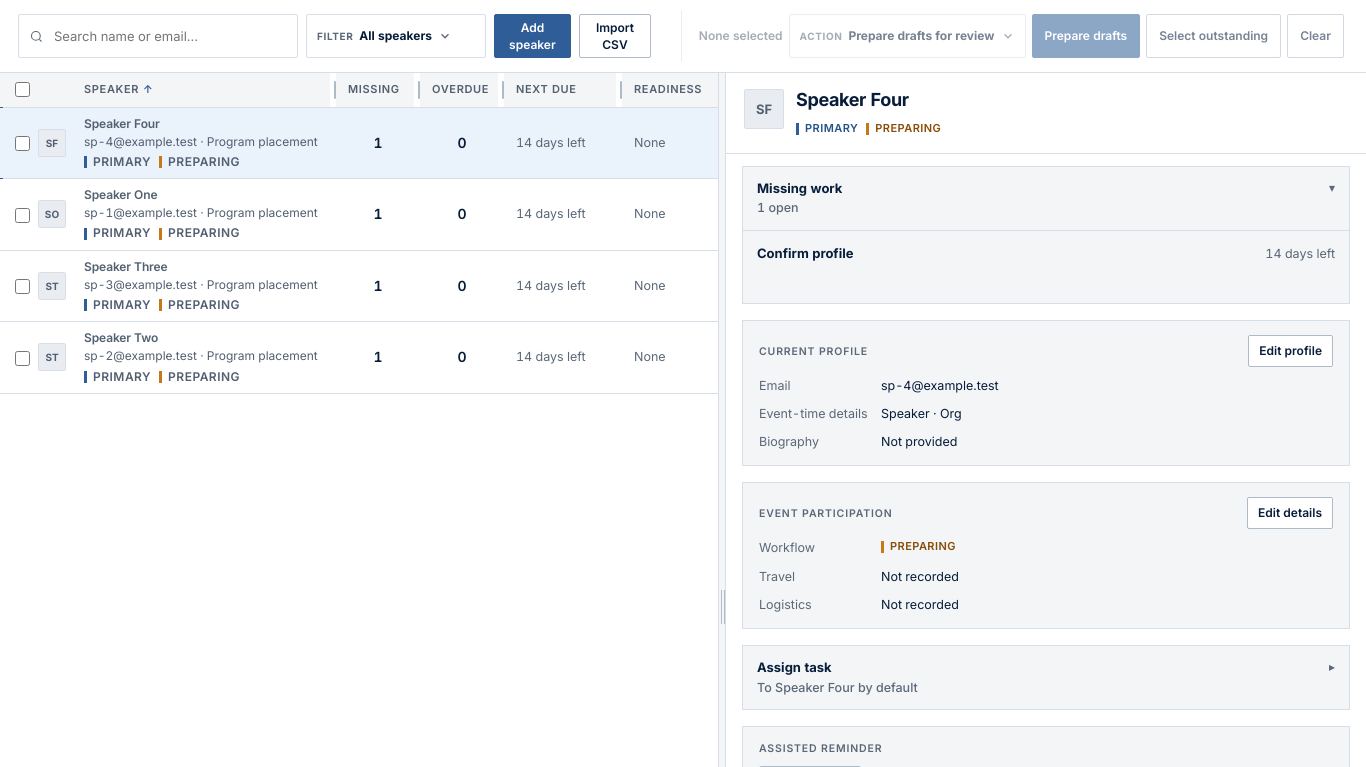
Speakers bulk task reminders › prepares drafts for a few selected speakers when crypto.randomUUID is missing
Click the checkbox named "Select Speaker Four for bulk reminder" at (22, 144), box [14,136,30,151]
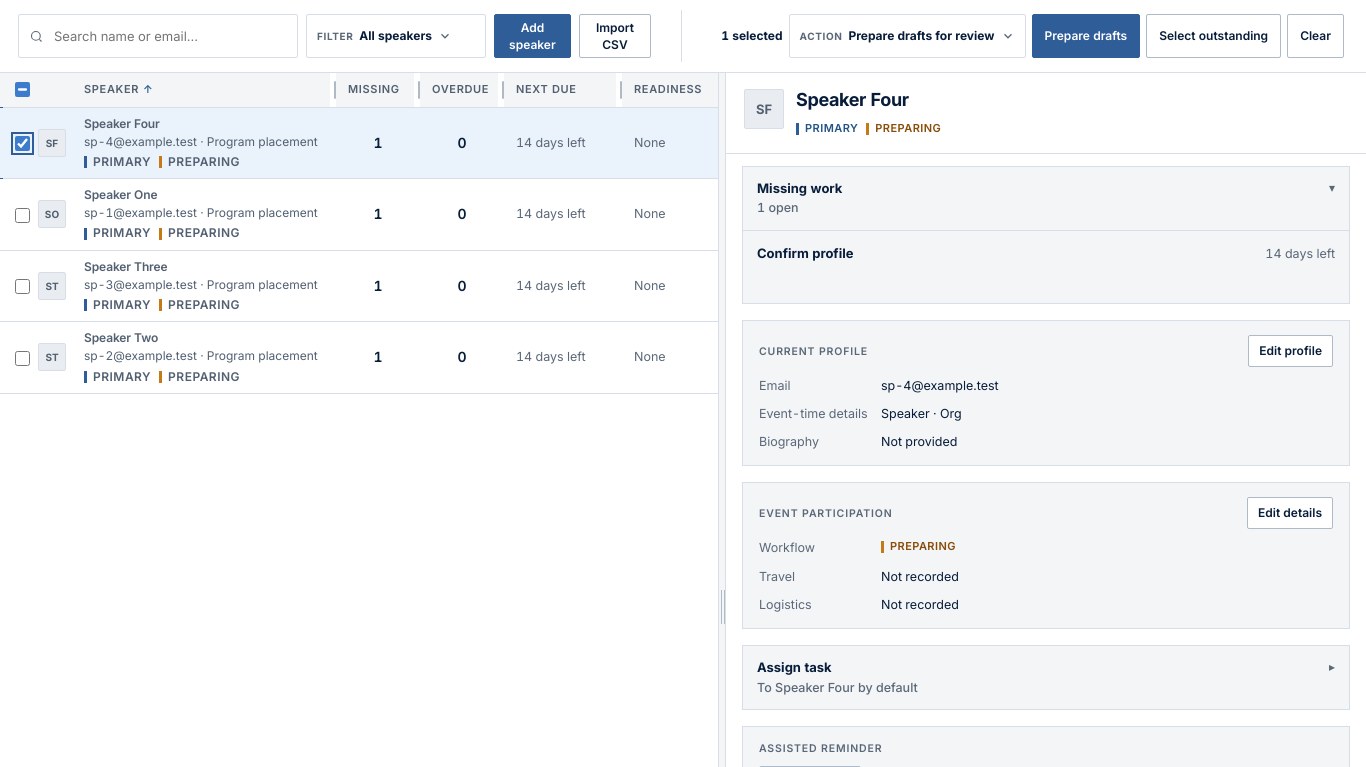
Click the checkbox named "Select Speaker One for bulk reminder" at (22, 215), box [14,208,30,223]
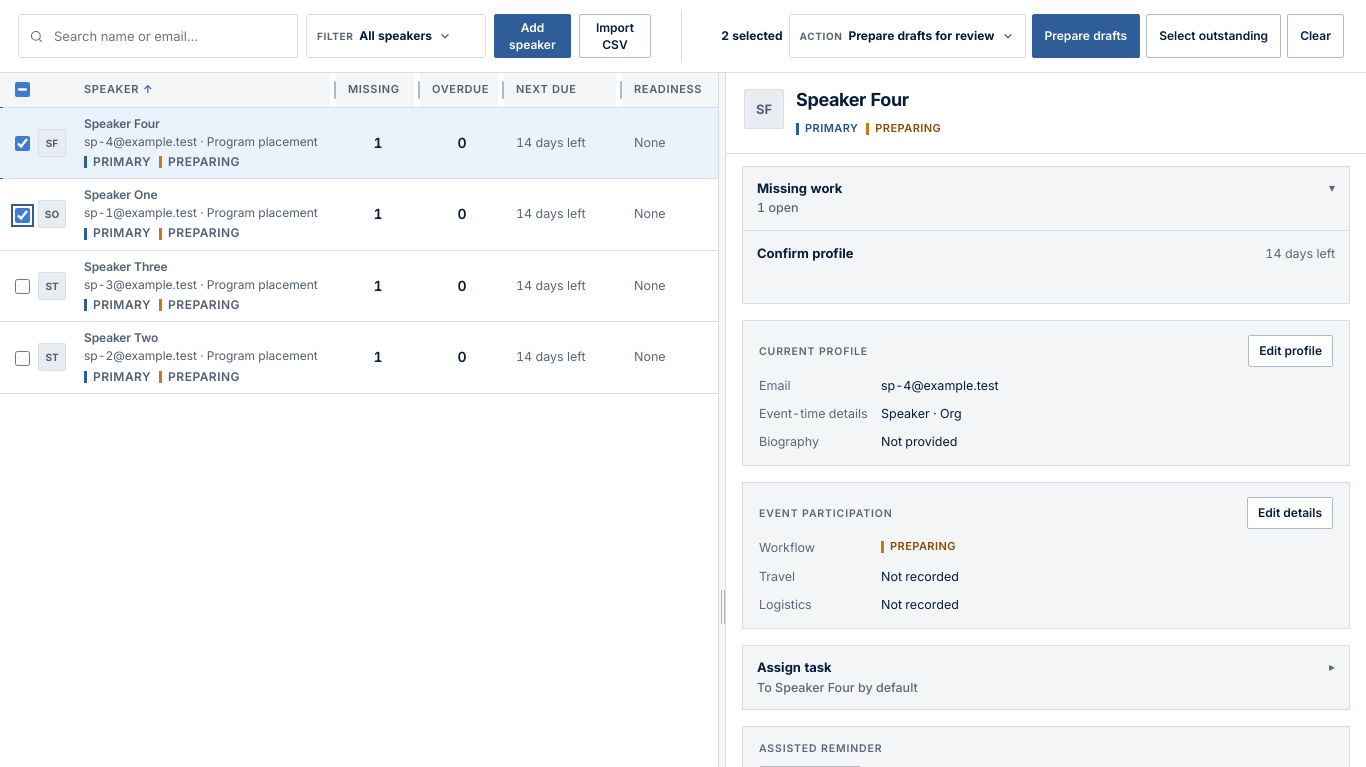
Click the checkbox named "Select Speaker Three for bulk reminder" at (22, 287), box [14,279,30,294]
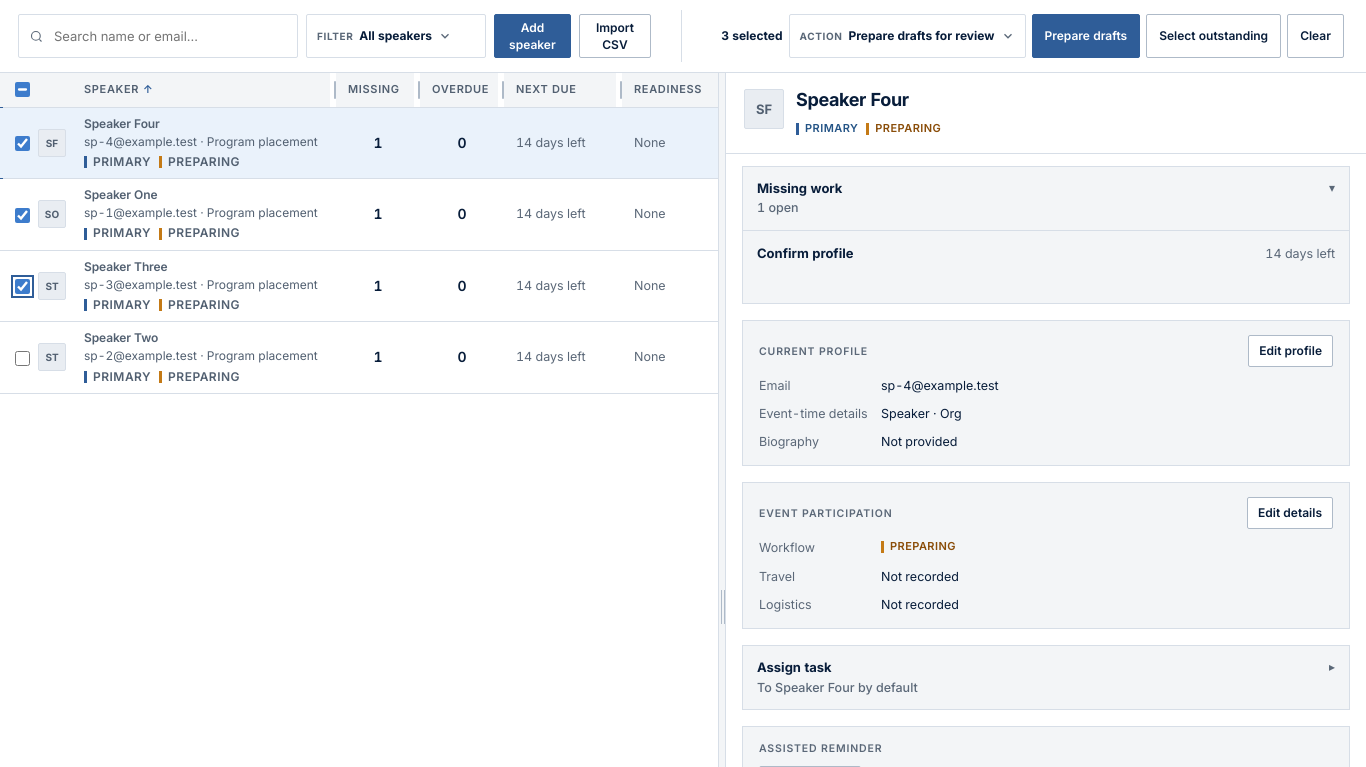
Click the checkbox named "Select Speaker Two for bulk reminder" at (22, 358), box [14,351,30,366]
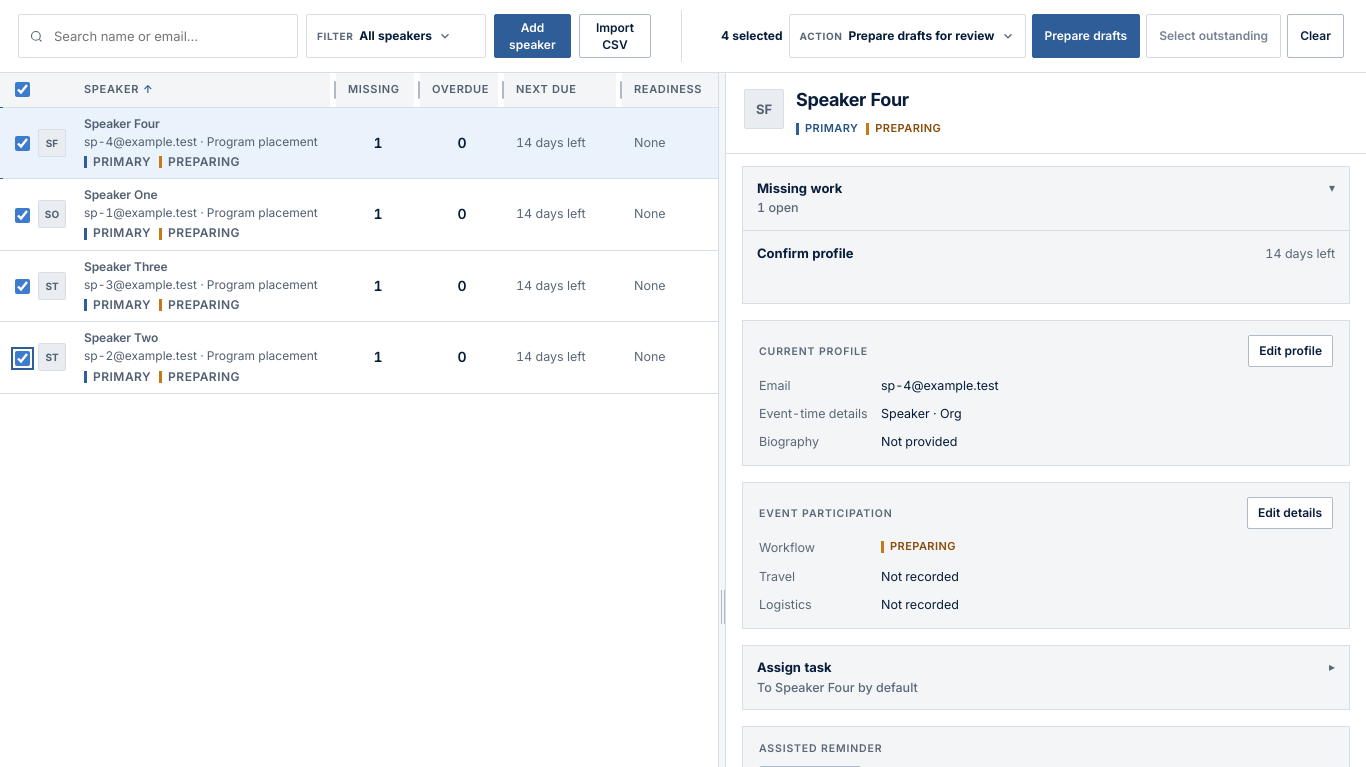
Click the button "Prepare drafts" at (1086, 36), box [1032,14,1140,58]
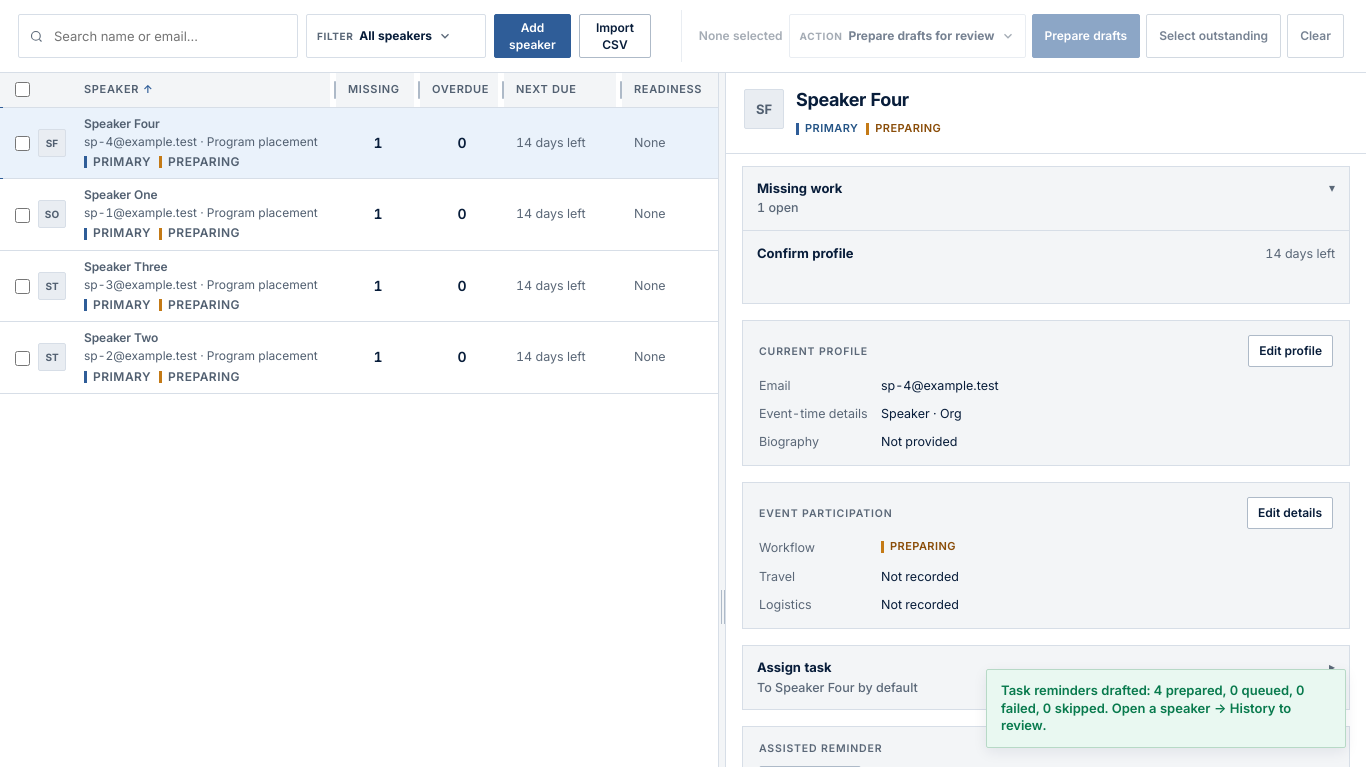
Check: the text "Task reminders drafted" is shown, box [1001,682,1304,734]
